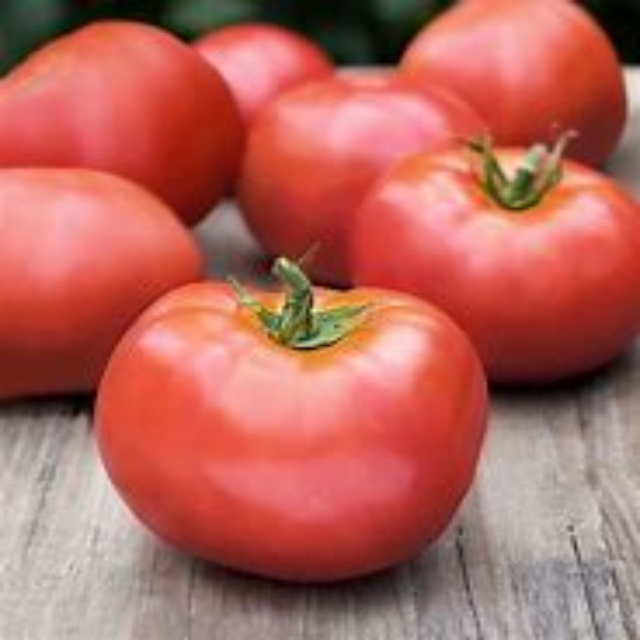tomato: (99, 276, 499, 593), (355, 150, 639, 387), (225, 80, 491, 280), (1, 167, 204, 405), (2, 28, 237, 209), (402, 6, 625, 174)
